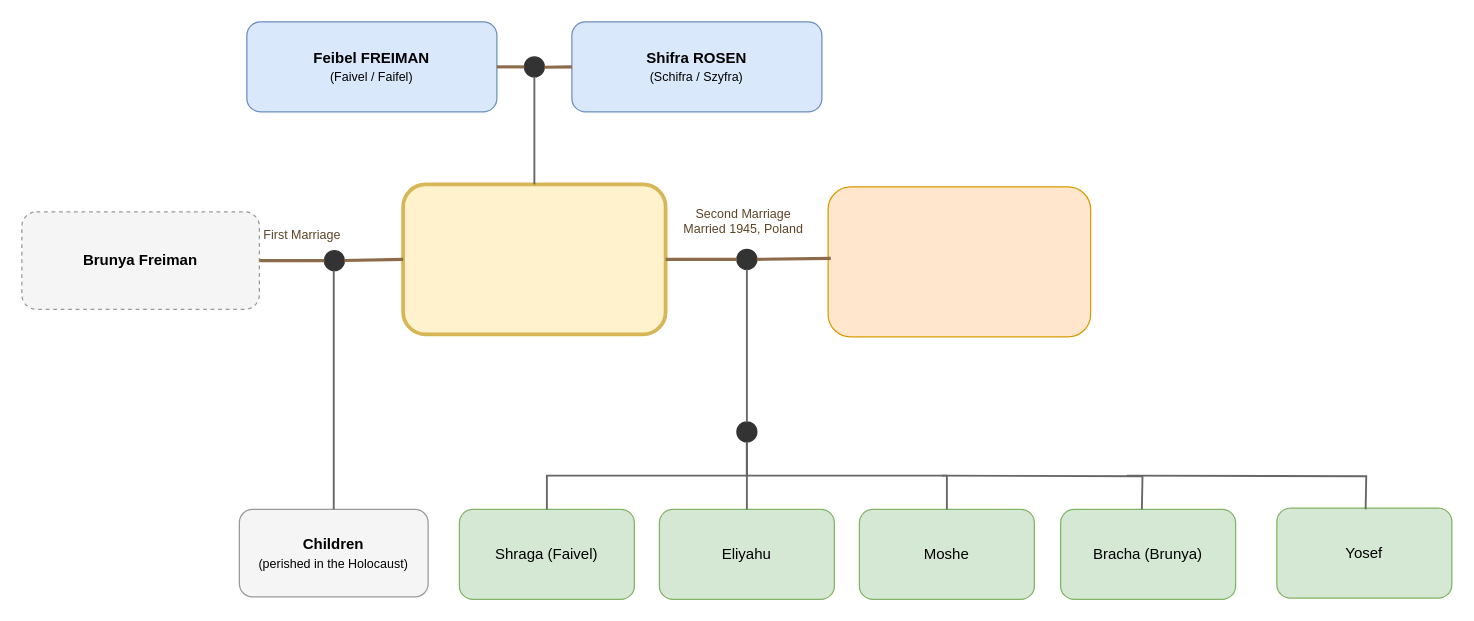
The diagram is 1474 pixels wide and 621 high, and some of its shapes have lost their labels. The centre of each missing label's shape, as x and y in pixels:
Ester FREIMAN b. 15 April 1920: the point at 959,261
Herman (Zvi) FREIMAN b. 2 March 1910 Boryslaw, Poland: the point at 534,259
